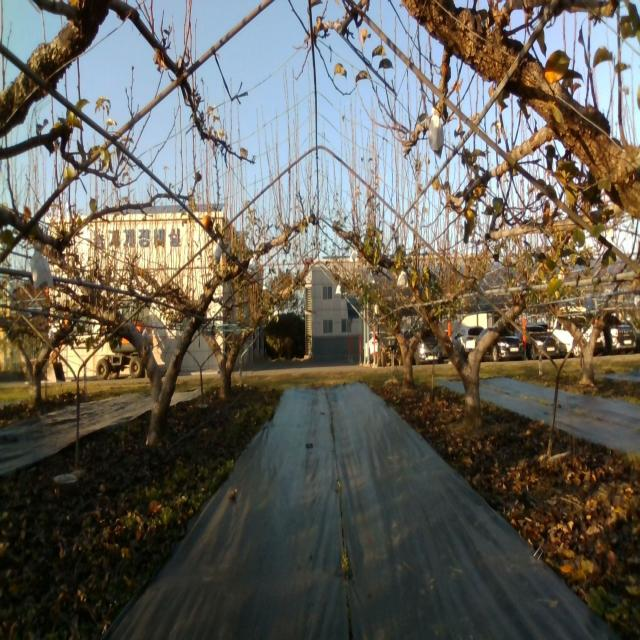pearbags: (31, 244, 55, 289), (428, 107, 445, 159), (212, 239, 222, 263), (396, 270, 409, 288)
